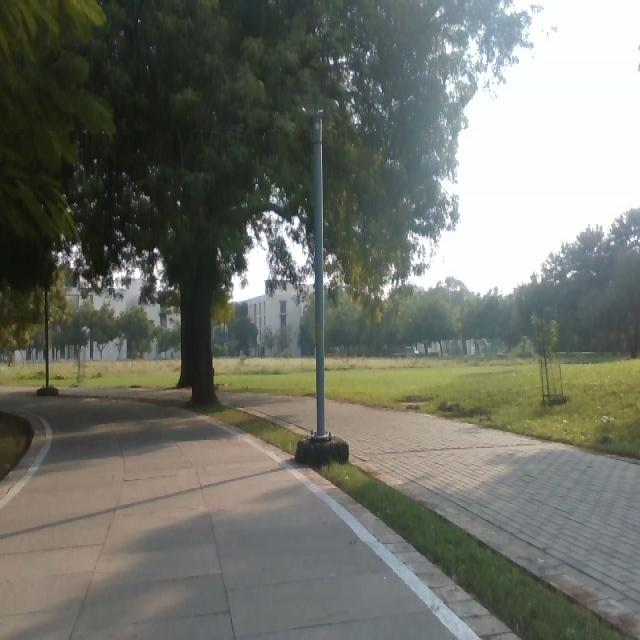lane: (5, 401, 453, 633)
